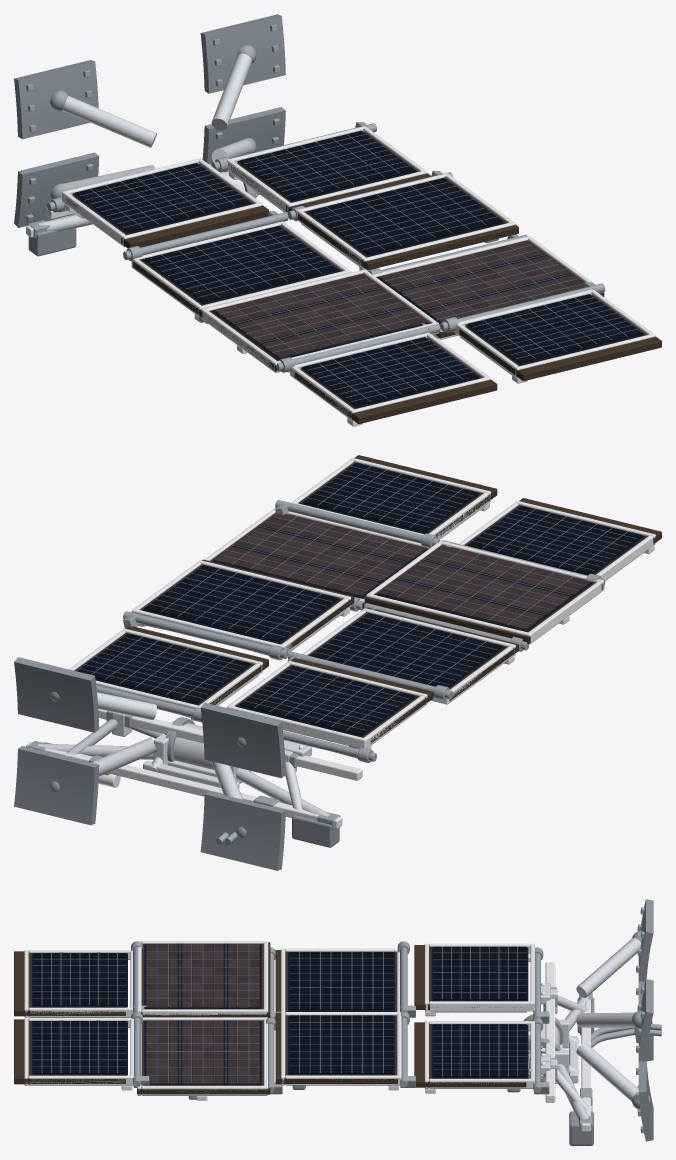
The model's file is solar-panel-standard.glb.
3 views of the same model, one above another, from view 1: azimuth 30°, elevation 25°; view 2: azimuth 150°, elevation 25°; view 3: azimuth 270°, elevation 25° (orthographic). The views are drawn at different scales.
Visible parts, largest first — view 1: panel_cells:2, panel_cells:6, panel_cells:1, panel_cells:5, panel_cells:4, panel_cells:7, panel_cells:0, panel_cells:3, hull_saddle:0, hull_saddle:2, hull_saddle:3, panel:7 (+39 smaller); view 2: panel_cells:2, panel_cells:6, panel_cells:5, panel_cells:1, panel_cells:0, panel_cells:7, panel_cells:3, panel_cells:4, hull_saddle:1, hull_saddle:3, hull_saddle:0, hull_saddle:2 (+48 smaller); view 3: panel_cells:6, panel_cells:2, panel_cells:5, panel_cells:1, panel_cells:7, panel_cells:3, panel_cells:4, panel_cells:0, panel_frame:0, panel_frame:2, solar_mount_rails, panel_frame:5 (+55 smaller).
Part boxes in pixels (bbox=[...]): panel_cells:2: bbox=[214, 274, 425, 358]; panel_cells:6: bbox=[379, 241, 584, 322]; panel_cells:1: bbox=[145, 226, 337, 302]; panel_cells:5: bbox=[309, 178, 502, 254]; panel_cells:4: bbox=[239, 131, 414, 200]; panel_cells:7: bbox=[468, 294, 642, 363]; panel_cells:0: bbox=[75, 163, 249, 232]; panel_cells:3: bbox=[303, 337, 477, 406]; hull_saddle:0: bbox=[200, 14, 285, 93]; hull_saddle:2: bbox=[14, 60, 98, 139]; hull_saddle:3: bbox=[14, 152, 99, 227]; panel:7: bbox=[459, 295, 661, 381]; panel_cells:2: bbox=[379, 545, 590, 629]; panel_cells:6: bbox=[214, 513, 425, 596]; panel_cells:5: bbox=[145, 565, 337, 642]; panel_cells:1: bbox=[310, 613, 502, 686]; panel_cells:0: bbox=[239, 666, 414, 735]; panel_cells:7: bbox=[303, 463, 477, 532]; panel_cells:3: bbox=[468, 506, 642, 574]; panel_cells:4: bbox=[77, 633, 249, 703]; hull_saddle:1: bbox=[14, 746, 99, 825]; hull_saddle:3: bbox=[200, 791, 285, 870]; hull_saddle:0: bbox=[14, 657, 99, 732]; hull_saddle:2: bbox=[200, 702, 285, 778]; panel_cells:6: bbox=[146, 1020, 259, 1084]; panel_cells:2: bbox=[146, 944, 259, 1007]; panel_cells:5: bbox=[290, 1015, 392, 1073]; panel_cells:1: bbox=[290, 952, 392, 1010]; panel_cells:7: bbox=[33, 1021, 126, 1073]; panel_cells:3: bbox=[33, 953, 126, 1005]; panel_cells:4: bbox=[433, 1024, 526, 1077]; panel_cells:0: bbox=[433, 946, 526, 999]; panel_frame:0: bbox=[424, 943, 534, 1011]; panel_frame:2: bbox=[137, 941, 268, 1015]; solar_mount_rails: bbox=[545, 962, 590, 1131]; panel_frame:5: bbox=[281, 1012, 401, 1085].
Size of the model in its own units: 3 by 1.29 by 5.83.
